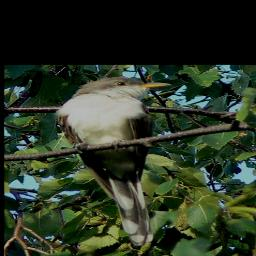Cuckoo: (57, 75, 173, 247)
